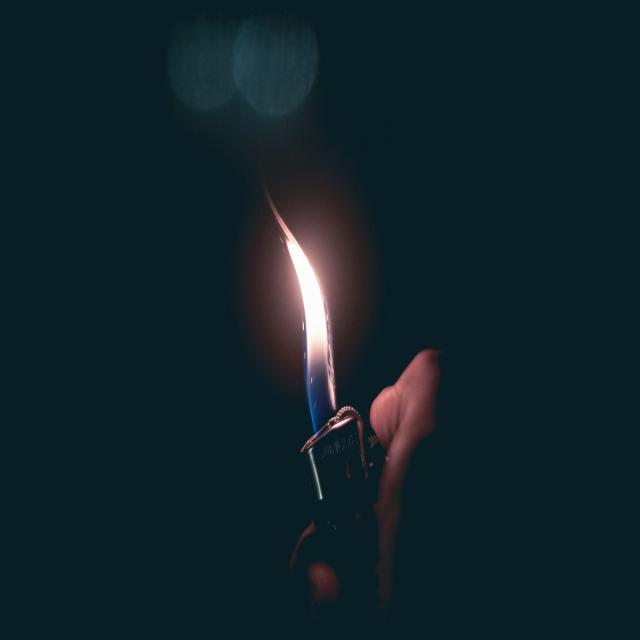fire: (269, 194, 336, 434)
